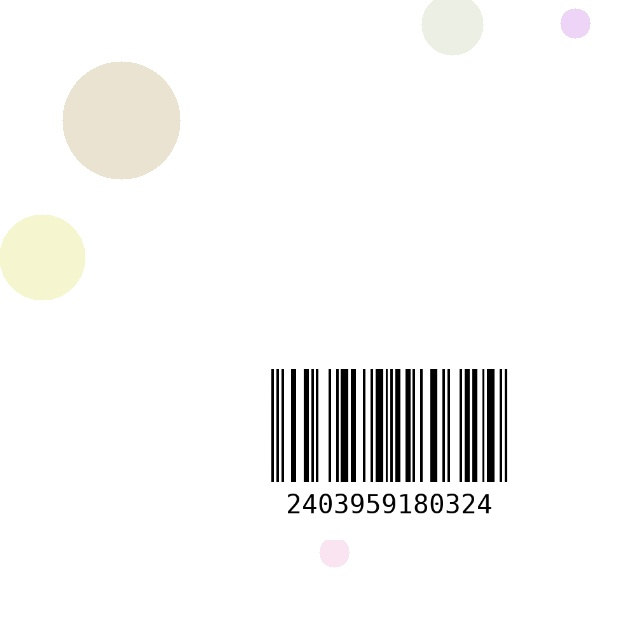barcode: (223, 362, 556, 540)
